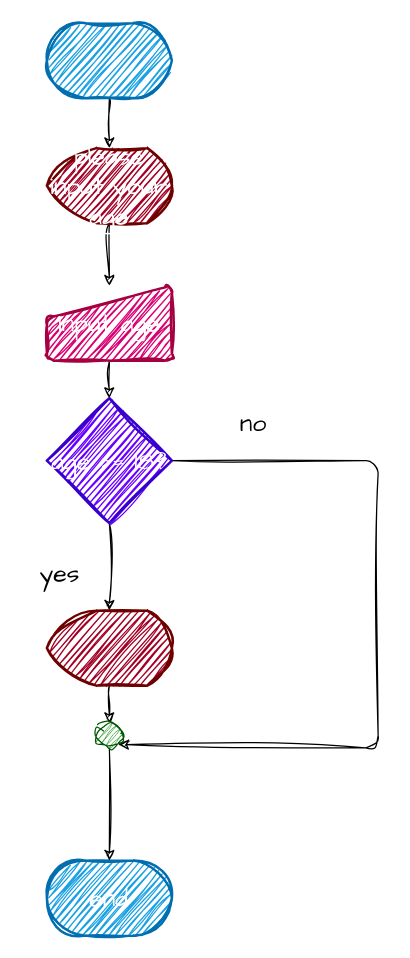
Some shapes in this 410 by 958 pixel diagram are drawn without their labels. The shapes that lost their labels are listed below. From the top down, each one's centre as x and y in pixels, then its label:
[108,60]: start
[108,647]: "you are and adult"
